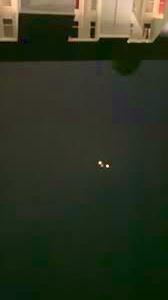Plane: (90, 152, 115, 178)
